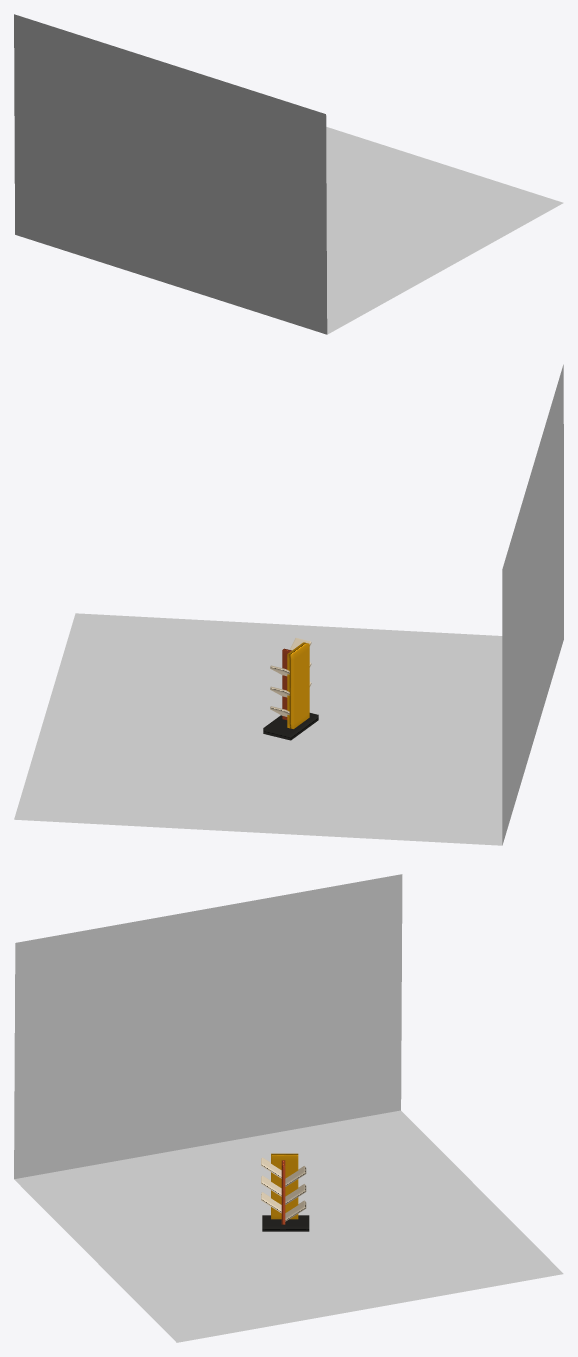
Rendered from rak.fbx.
3 views of the same model, one above another, from view 1: azimuth 30°, elevation 25°; view 2: azimuth 150°, elevation 25°; view 3: azimuth 270°, elevation 25° (orthographic). The views are drawn at different scales.
Parts seen in each view (by area): view 1: Plane; view 2: Plane, Cube, Cube.001; view 3: Plane, Cube, Cube.001.
Boxes of the visible parts, x1=… form: Plane: x1=14, y1=14, x2=563, y2=334; Plane: x1=14, y1=364, x2=563, y2=845; Cube: x1=287, y1=642, x2=309, y2=728; Cube.001: x1=263, y1=713, x2=318, y2=740; Plane: x1=14, y1=874, x2=563, y2=1342; Cube: x1=271, y1=1153, x2=298, y2=1219; Cube.001: x1=262, y1=1215, x2=309, y2=1231.
Size of the model in its own units: 8332 by 3943 by 8323.
